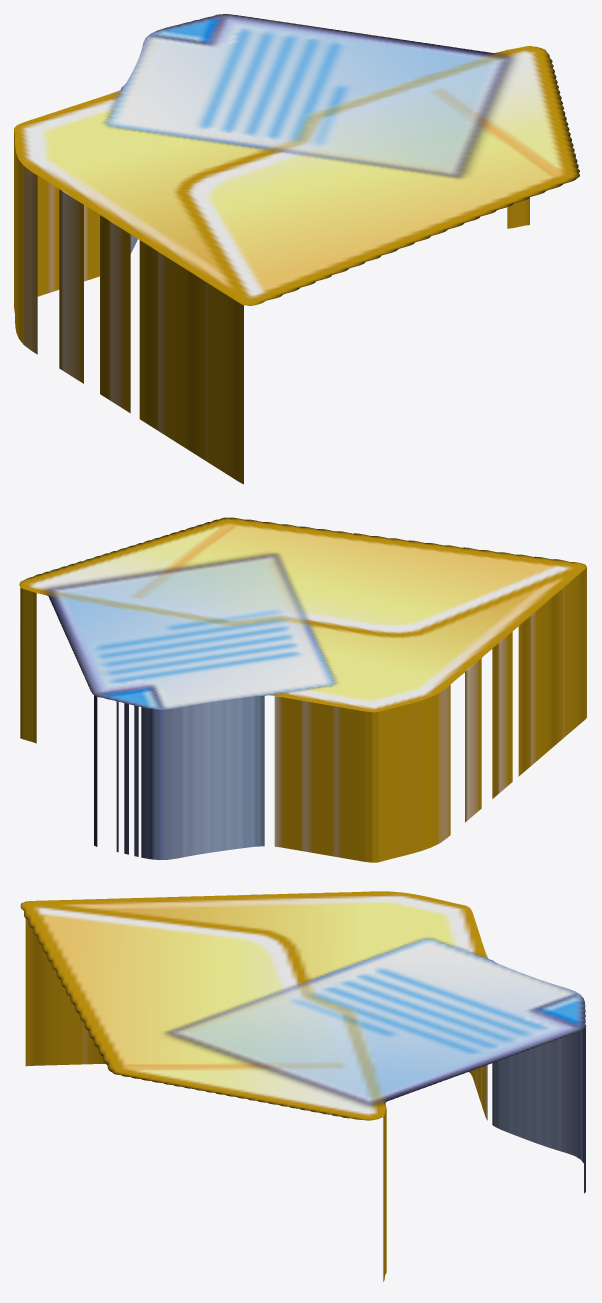
File: documents.FBX
The picture shows the model from 3 angles, top to bottom: view 1: azimuth 30°, elevation 25°; view 2: azimuth 150°, elevation 25°; view 3: azimuth 270°, elevation 25°; orthographic projection. The views are drawn at different scales.
Parts seen in each view (by area): view 1: Shape1; view 2: Shape1; view 3: Shape1.
Boxes of the visible parts, x1,y1,x2,y2 form: Shape1: (14,14,579,484); Shape1: (19,517,586,862); Shape1: (20,891,585,1281).
Size of the model in its own units: 72.14 by 23.88 by 75.32.
